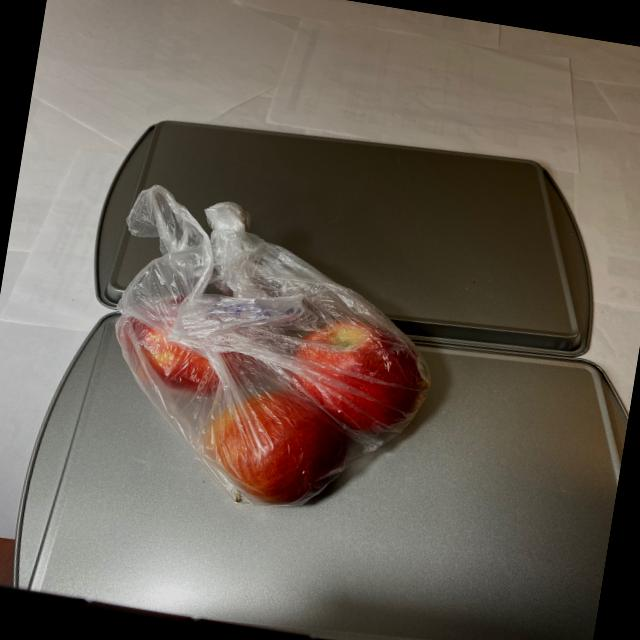apple: (90, 282, 448, 534)
